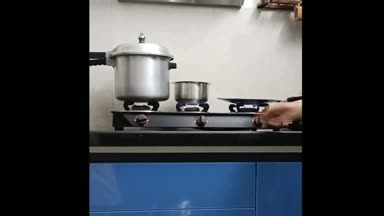flame_gas_off: (123, 102, 161, 126)
flame_gas_on: (176, 102, 212, 127), (232, 103, 268, 127)
